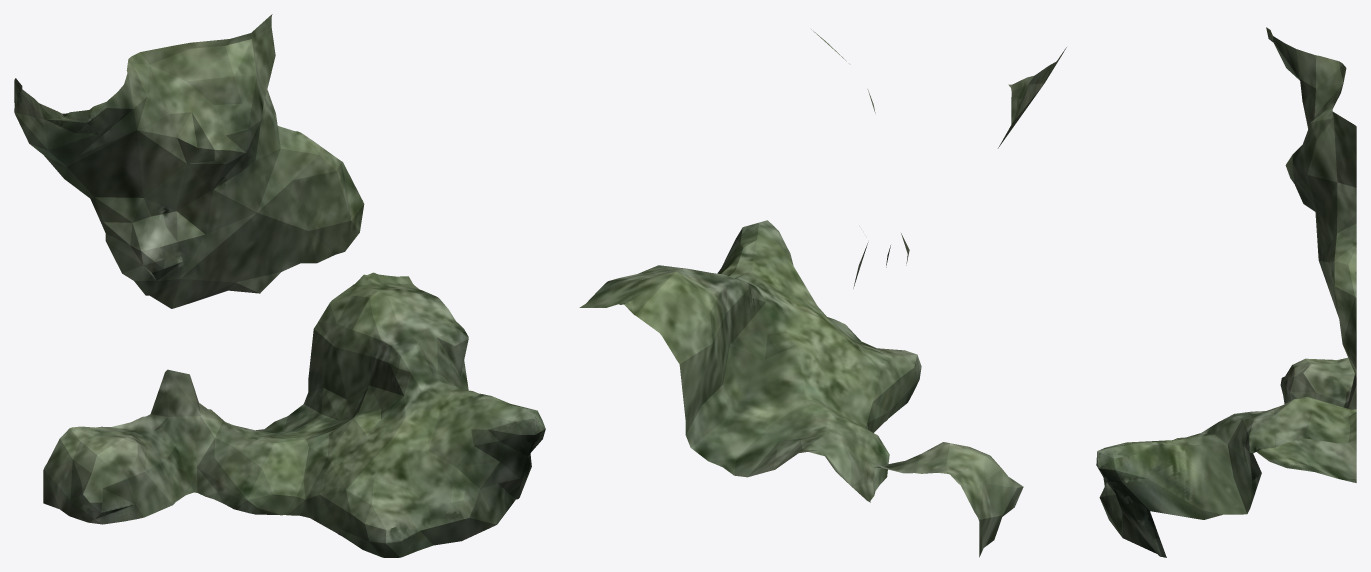
The picture shows the model from 3 angles, left to right: view 1: azimuth 30°, elevation 25°; view 2: azimuth 150°, elevation 25°; view 3: azimuth 270°, elevation 25°; orthographic projection. The views are drawn at different scales.
Size of the model in its own units: 2.87 by 2.95 by 1.86.
3 materials, 3 textured.
